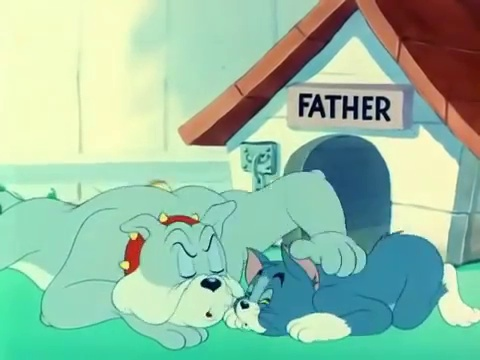spike: (111, 200, 239, 332)
tom: (232, 240, 321, 338)
